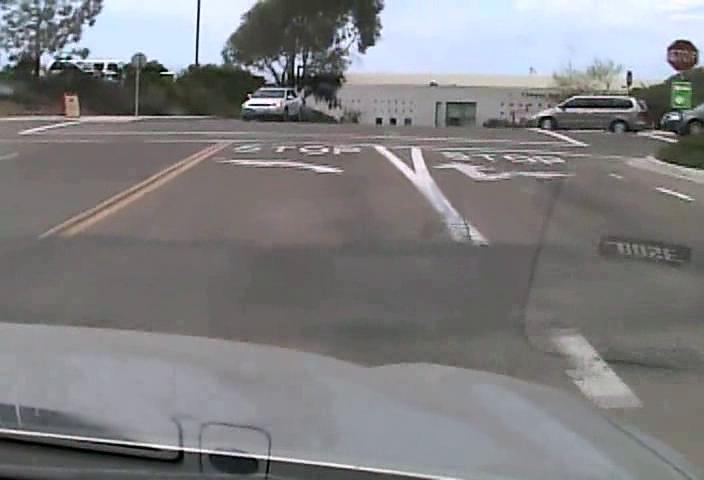stop: (665, 38, 700, 73)
